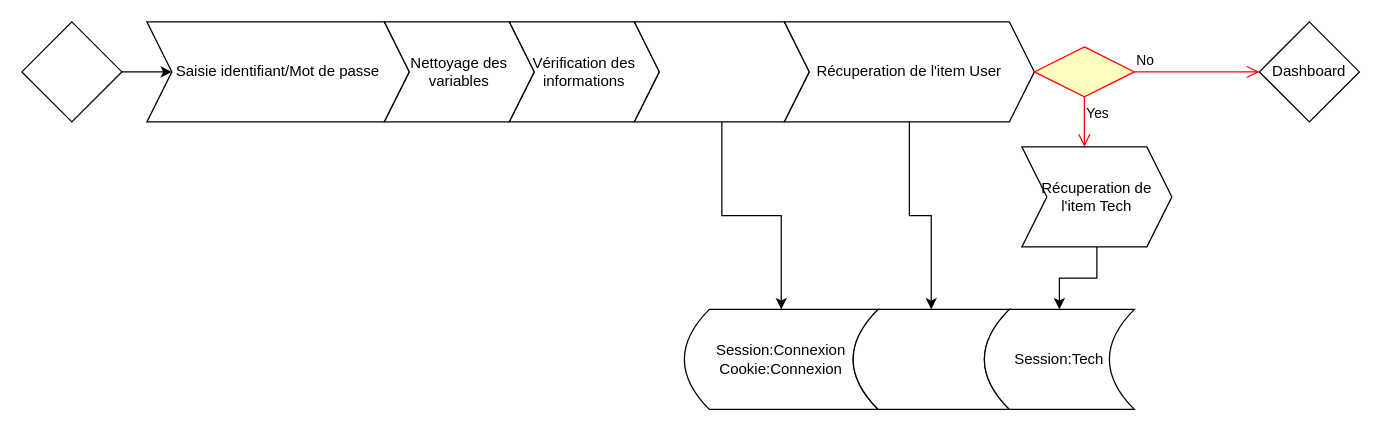
This 1381x431 diagram has some shape labels left out. The shapes that lost their labels are listed below. From the top down, each one's box as (x1, y1, x2, y2) in pixels, then its label:
(21, 21, 122, 122): Connexion
(633, 21, 809, 122): Création d'un Item Connexion
(1033, 46, 1134, 97): Tech
(852, 308, 1009, 409): Session:User
